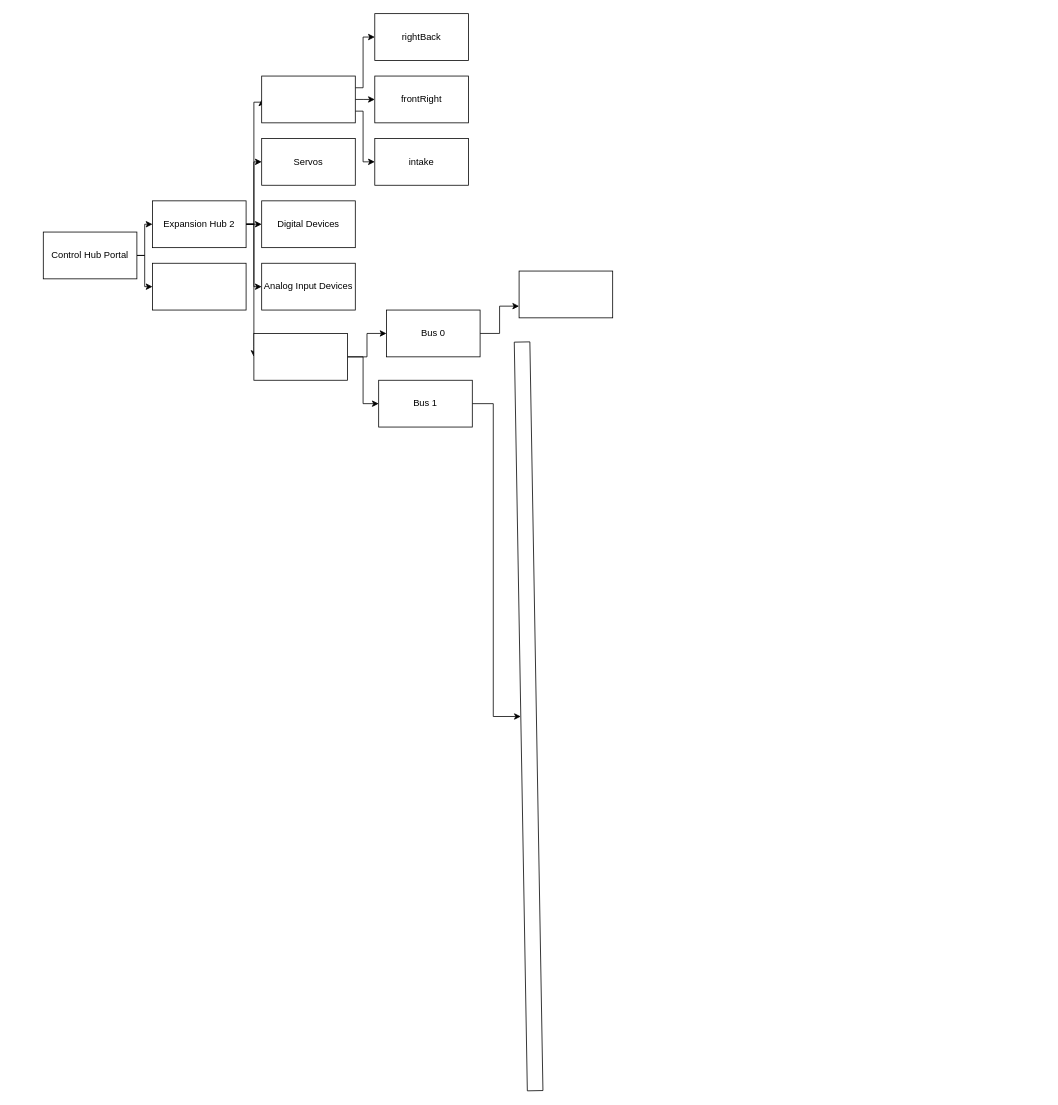
This 1058x1105 diagram has some shape labels left out. The centre of each missing label's shape, as x and y in pixels:
"Control Hub" goes at pixel 199 286.
"goBuilda Pinpoint" goes at pixel 528 716.
"I2C (Busses 0-3)" goes at pixel 300 356.
"Internal IMU" goes at pixel 565 294.
"Motors" goes at pixel 308 99.
